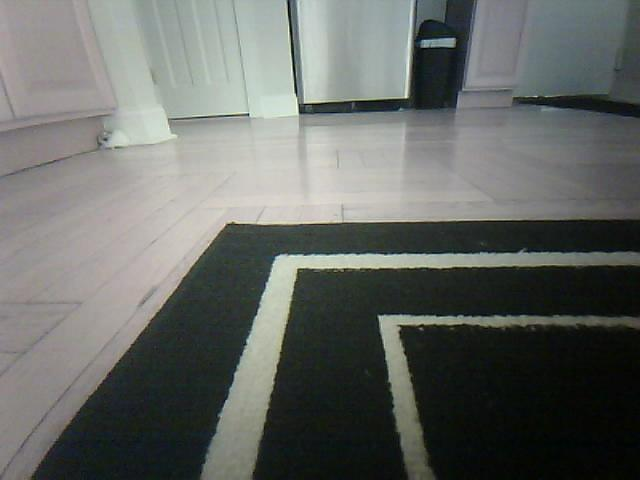curved-road-line: (270, 248, 640, 272), (374, 313, 640, 332)
road-line: (193, 265, 302, 480), (378, 327, 441, 479)
